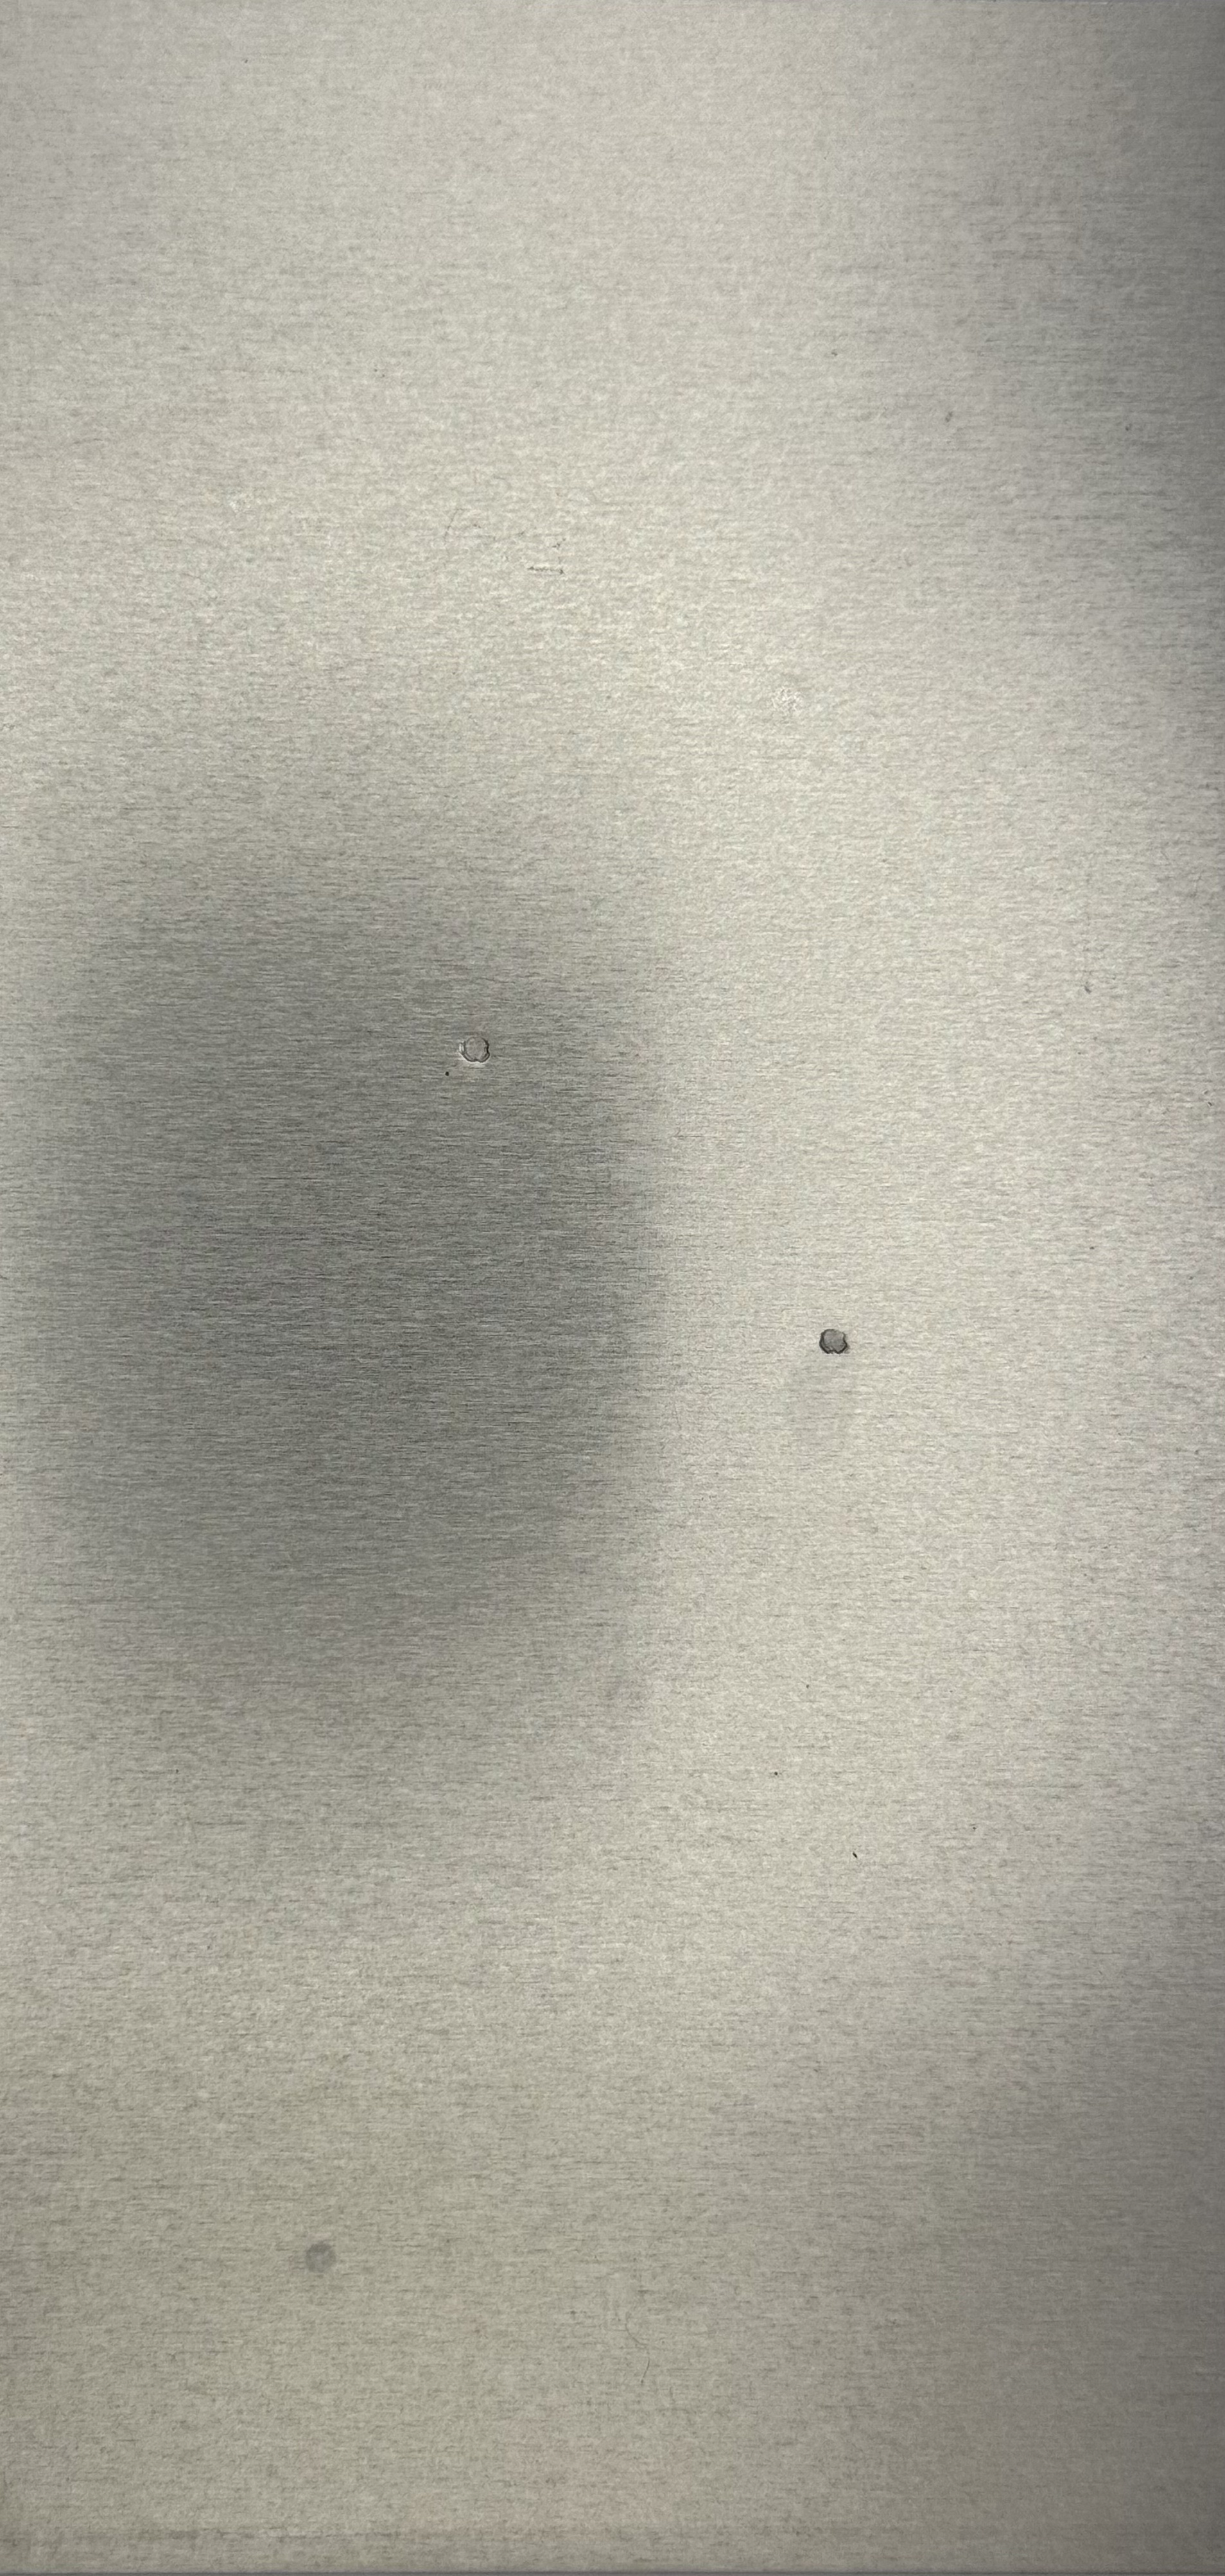Delle: (576, 1641, 686, 1730), (437, 1020, 512, 1084), (291, 2233, 353, 2284), (808, 1316, 862, 1365)
